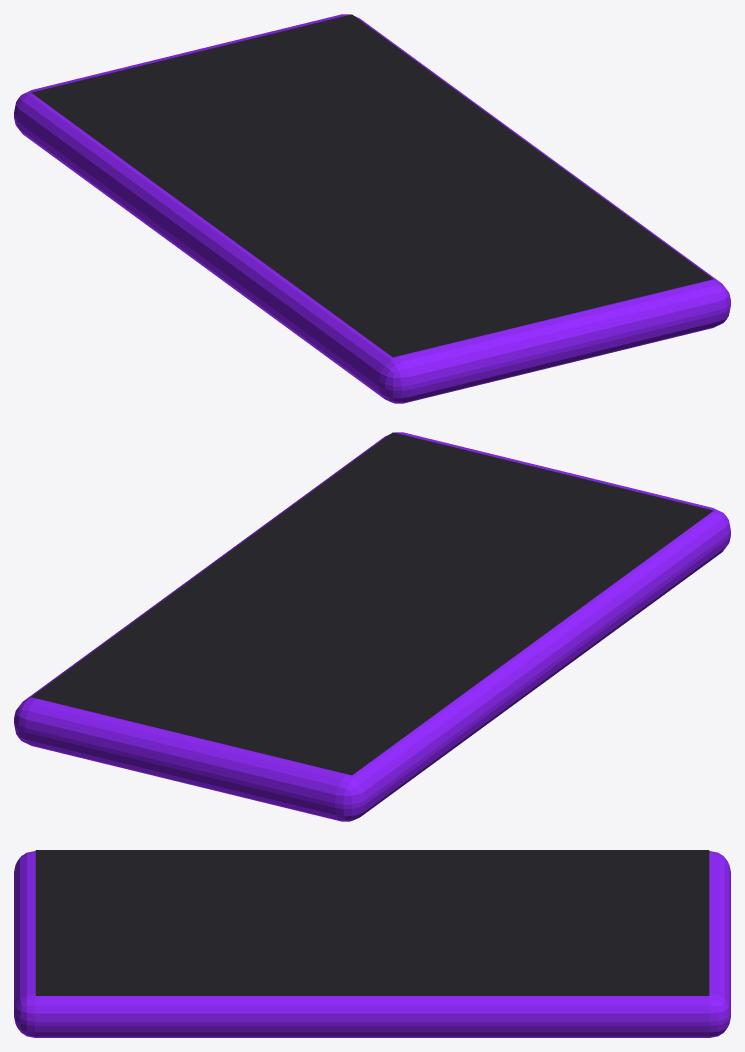
The model's file is iqoo-z-model-213-flagship-2025.glb.
The picture shows the model from 3 angles, top to bottom: view 1: azimuth 30°, elevation 25°; view 2: azimuth 150°, elevation 25°; view 3: azimuth 270°, elevation 25°; orthographic projection. The views are drawn at different scales.
Parts seen in each view (by area): view 1: Phone_Screen, Phone_Body; view 2: Phone_Screen, Phone_Body; view 3: Phone_Screen, Phone_Body.
Part boxes in pixels (bbox=[...]): Phone_Screen: bbox=[31, 14, 713, 357]; Phone_Body: bbox=[14, 14, 730, 403]; Phone_Screen: bbox=[31, 432, 713, 775]; Phone_Body: bbox=[14, 432, 730, 821]; Phone_Screen: bbox=[35, 850, 709, 995]; Phone_Body: bbox=[14, 851, 730, 1037].
Bounding box in the file's own units: 0.0775 × 0.0097 × 0.1481.
